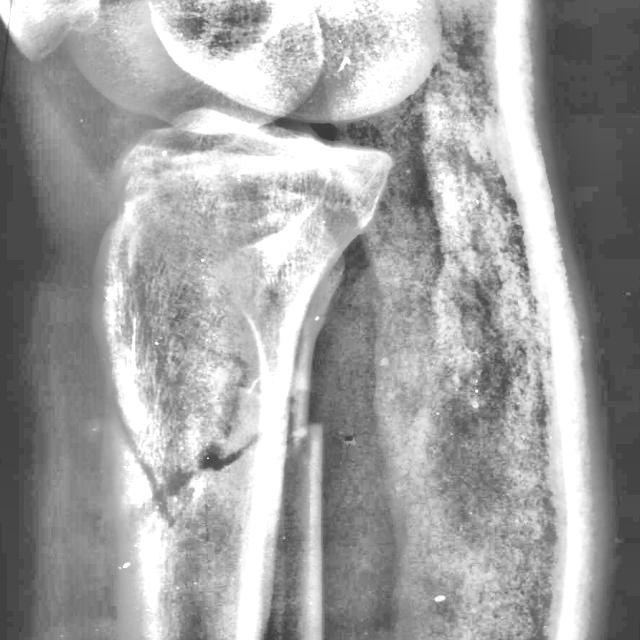line: (99, 372, 280, 556)
messed_up_angle: (282, 399, 326, 486)
